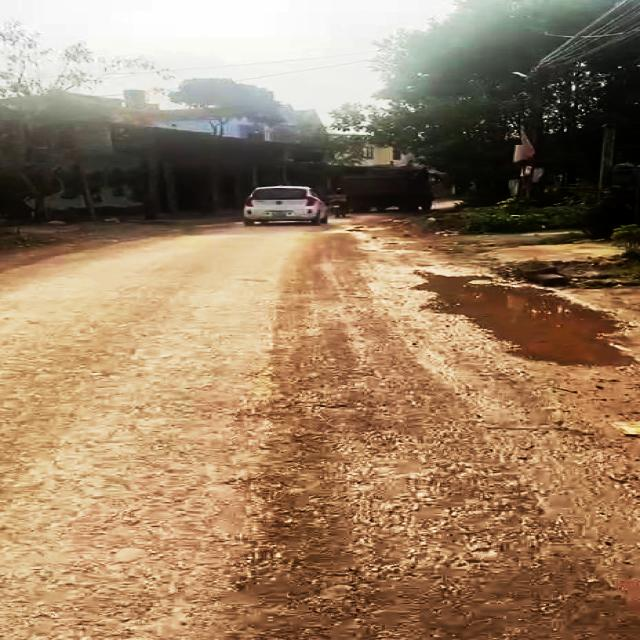pothole: (401, 265, 640, 372)
